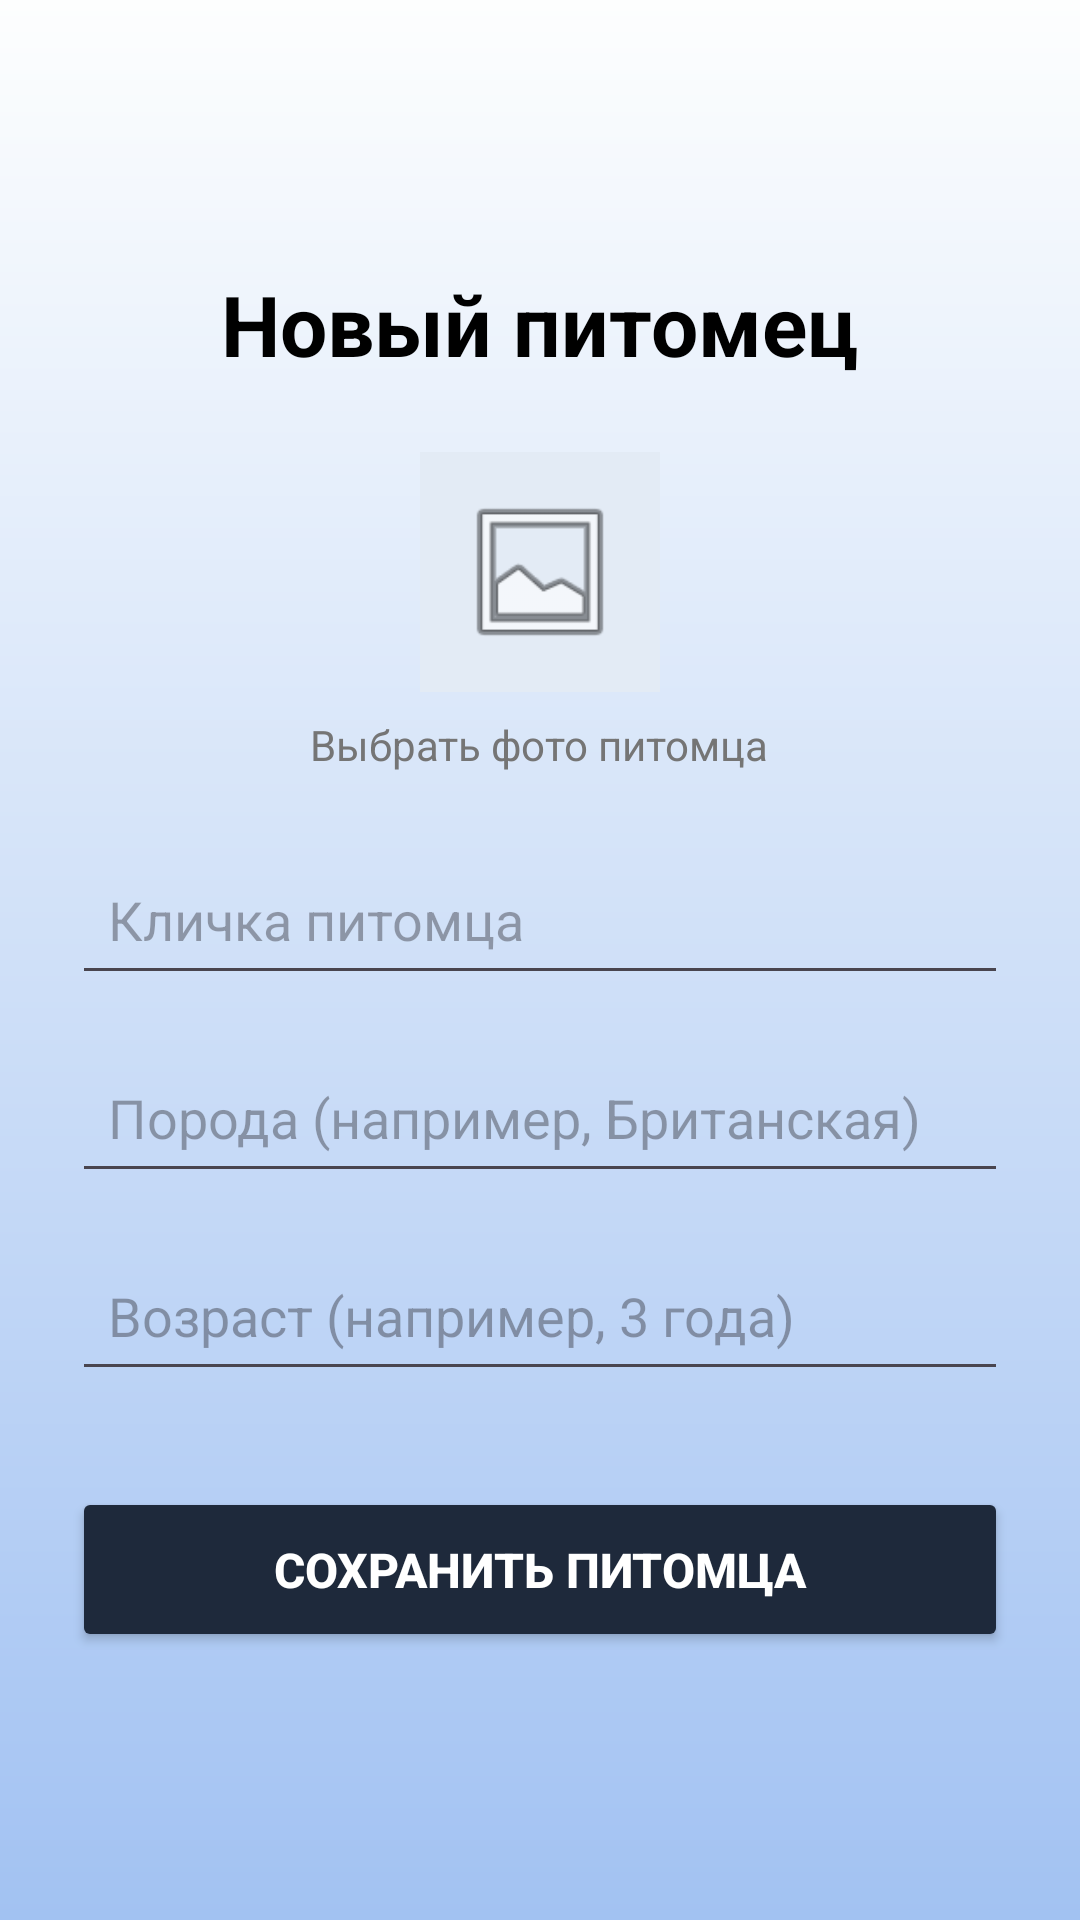

Named icons in this screenshot (1080px x 1920px) and their centers, (x=x, y=y):
gallery: (x=540, y=572)
